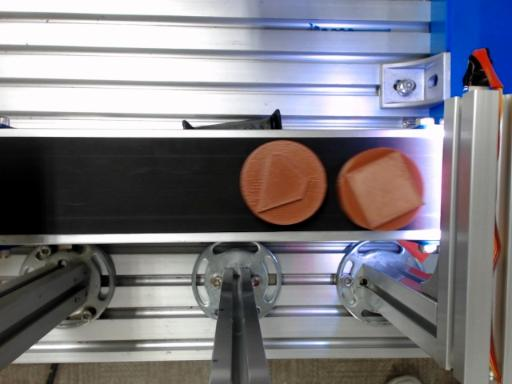Brown_Waper: (240, 140, 325, 225), (337, 147, 423, 229)
